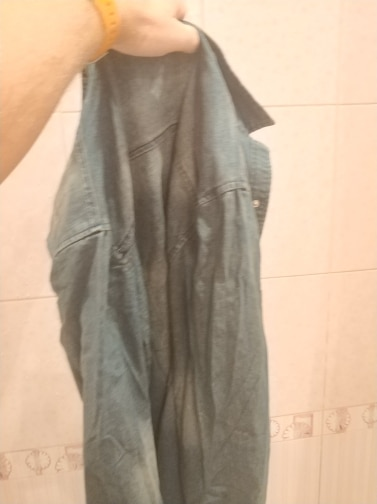shirts: (47, 24, 277, 504)
